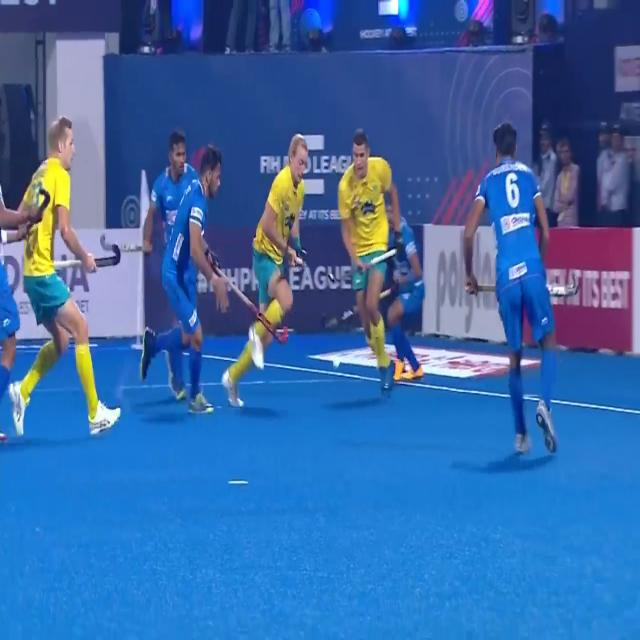ball: (328, 351, 342, 374)
